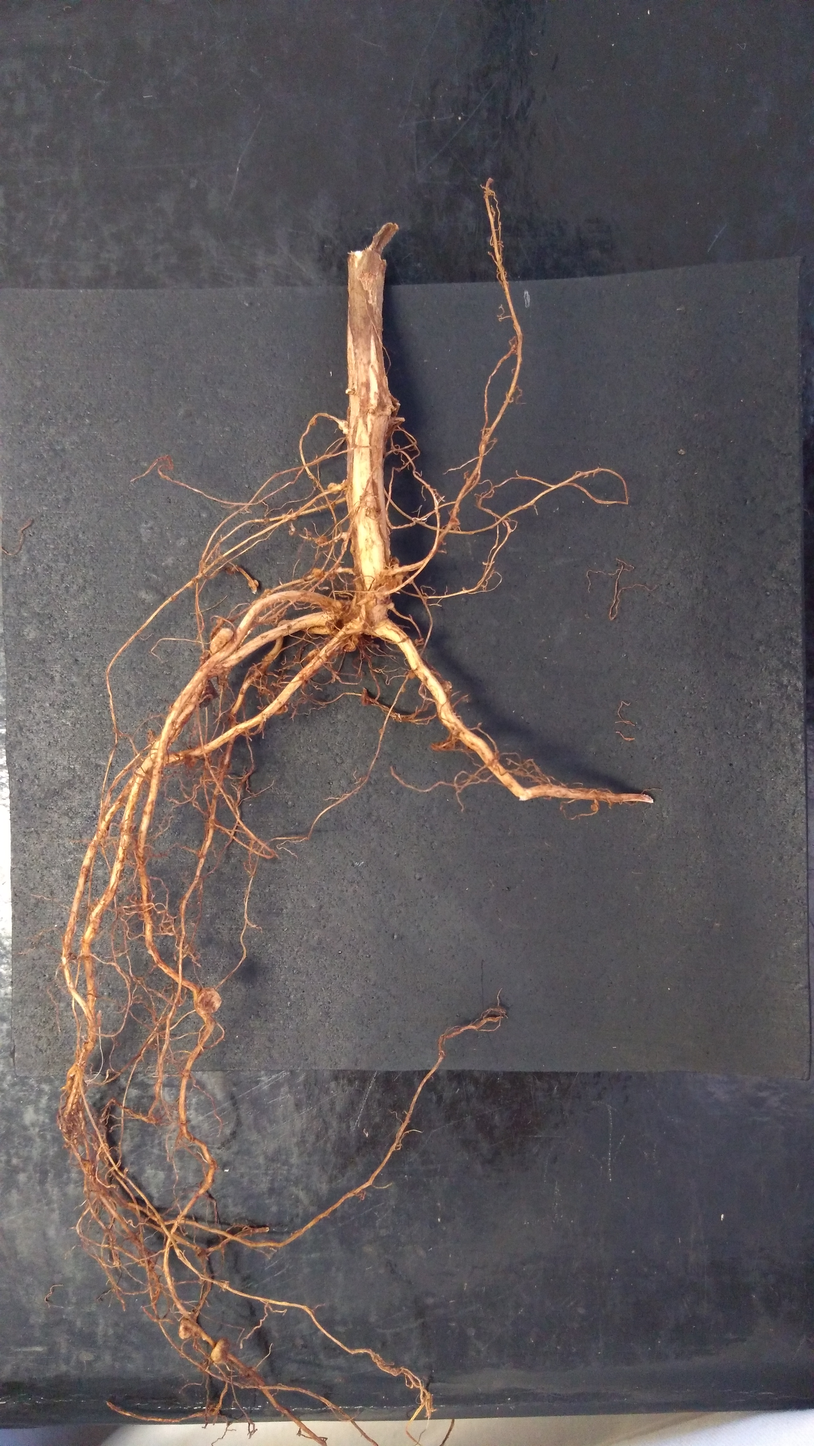nodule: (65, 1064, 88, 1096), (197, 986, 222, 1014), (208, 627, 233, 653), (198, 677, 219, 706), (210, 1337, 231, 1365), (178, 1317, 197, 1340), (368, 604, 388, 622), (395, 564, 409, 580), (360, 688, 371, 706), (376, 592, 391, 604), (326, 482, 340, 494), (185, 754, 197, 768), (440, 680, 452, 693), (315, 535, 329, 546), (261, 588, 275, 599), (307, 649, 321, 660), (386, 577, 398, 589), (337, 419, 349, 430), (81, 1158, 91, 1171), (274, 704, 285, 715), (199, 650, 209, 662), (343, 643, 356, 652), (248, 579, 259, 589), (83, 1040, 93, 1050), (313, 569, 324, 578), (414, 638, 425, 647), (328, 499, 336, 511), (332, 601, 342, 610), (365, 591, 375, 600), (351, 633, 359, 644), (449, 517, 460, 525), (308, 417, 317, 426), (391, 556, 400, 565), (590, 803, 599, 812), (215, 617, 225, 625), (345, 388, 355, 395), (369, 598, 377, 606), (387, 602, 395, 610), (408, 671, 416, 679), (290, 512, 297, 521), (393, 564, 400, 571), (171, 594, 177, 601), (192, 577, 198, 584), (378, 728, 384, 735), (400, 687, 406, 693)
